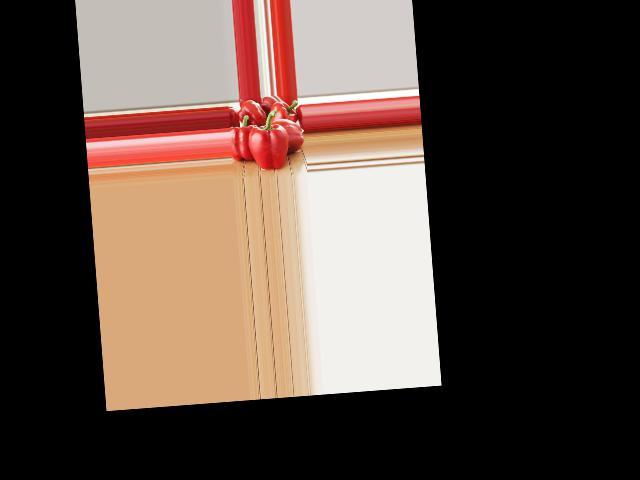bell_pepper: (269, 99, 300, 125)
